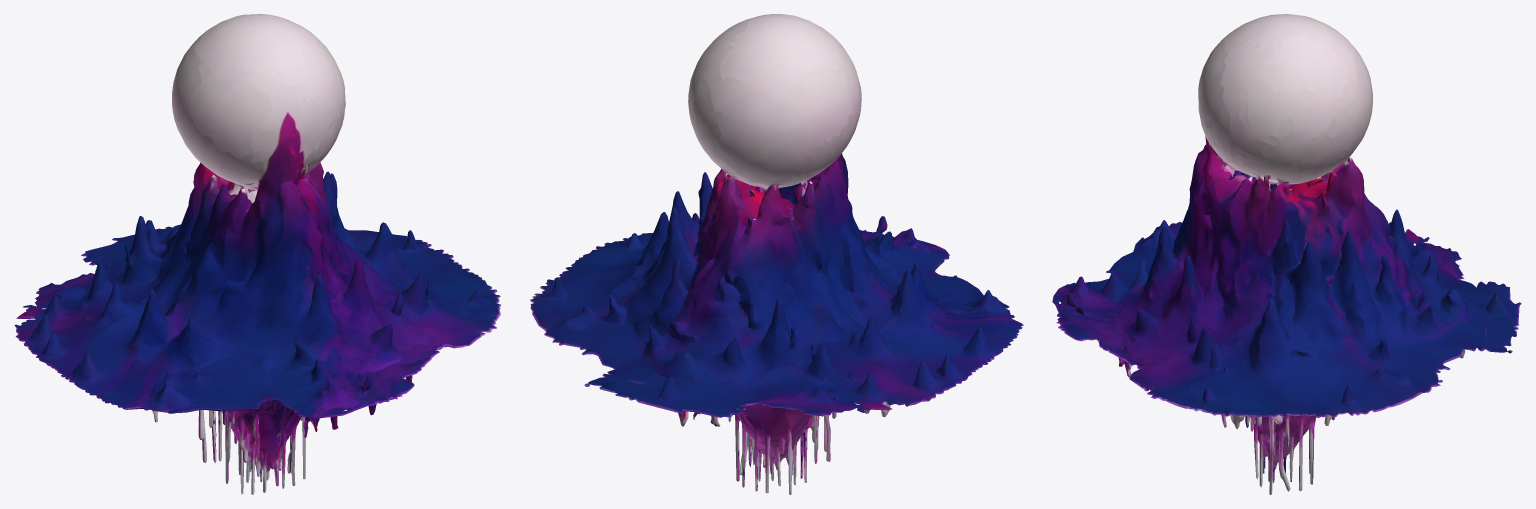
File: outer-shoal-south-generated-2026-05-17T20-59-12-373Z.medium.glb
The picture shows the model from 3 angles, left to right: view 1: azimuth 30°, elevation 25°; view 2: azimuth 150°, elevation 25°; view 3: azimuth 270°, elevation 25°; orthographic projection.
Visible parts, largest first — view 1: temp_mesh.ply; view 2: temp_mesh.ply; view 3: temp_mesh.ply.
Boxes of the visible parts, x1=… form: temp_mesh.ply: x1=14, y1=14, x2=501, y2=494; temp_mesh.ply: x1=530, y1=14, x2=1023, y2=494; temp_mesh.ply: x1=1052, y1=14, x2=1521, y2=494.
Bounding box in the file's own units: 1.86 × 1.97 × 1.84.
Materials: 1 (1 with a texture image).
